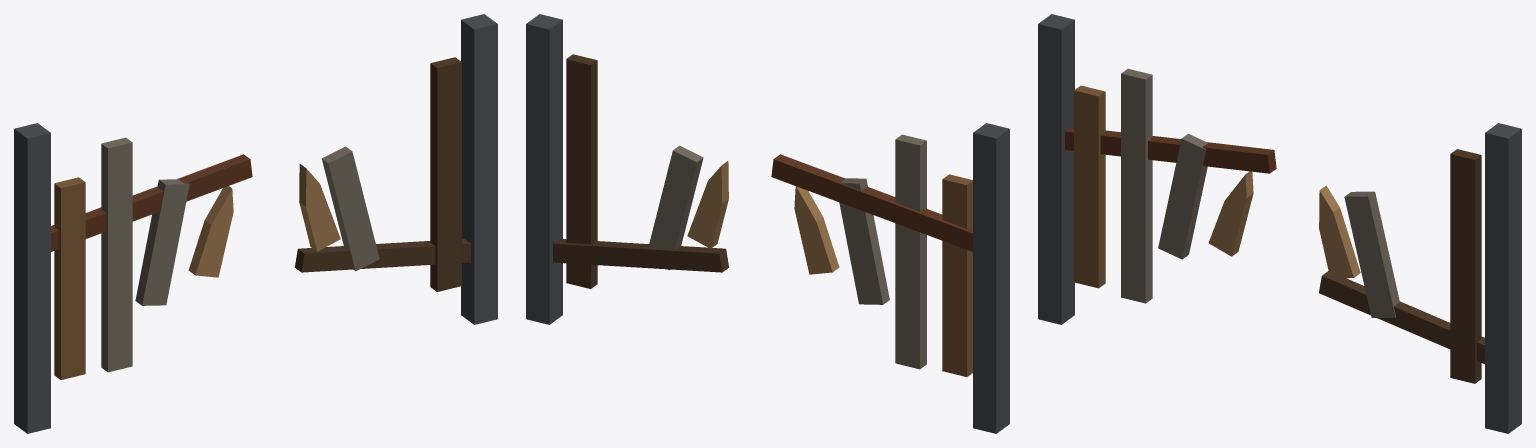
The model's file is piece_fence_critical.fbx.
3 renders of one model, left to right at view 1: azimuth 30°, elevation 25°; view 2: azimuth 150°, elevation 25°; view 3: azimuth 330°, elevation 25°, orthographic.
Visible parts, largest first — view 1: piece_fence_critical; view 2: piece_fence_critical; view 3: piece_fence_critical.
Boxes of the visible parts, box(x1,y1,x2,y2) form: piece_fence_critical: box(14, 14, 497, 433); piece_fence_critical: box(526, 14, 1009, 433); piece_fence_critical: box(1038, 14, 1521, 433).
Bounding box in the file's own units: 2 × 1.2 × 0.1.
